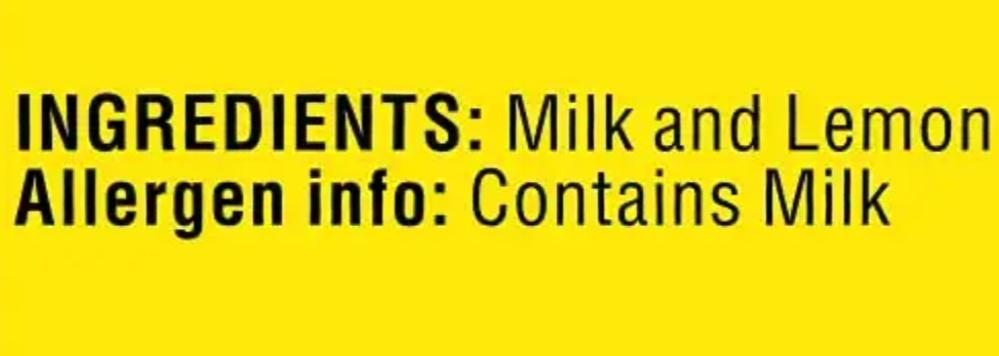ingredients: (8, 76, 995, 252)
